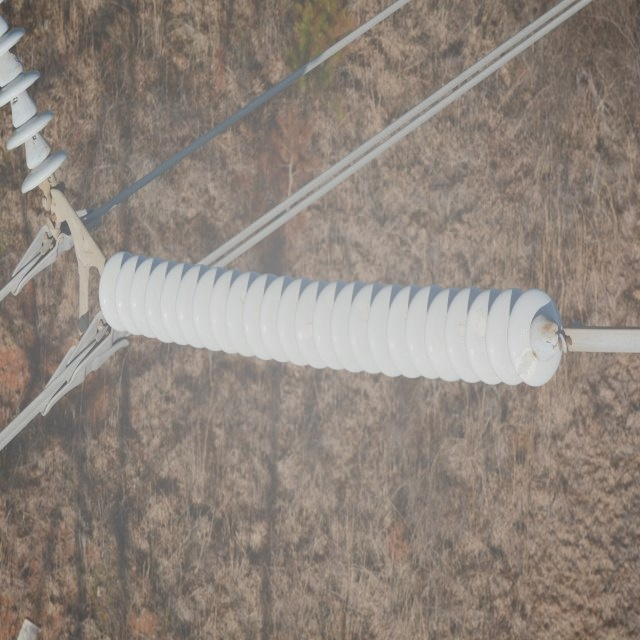insulator: (98, 246, 561, 388), (0, 31, 67, 192)
